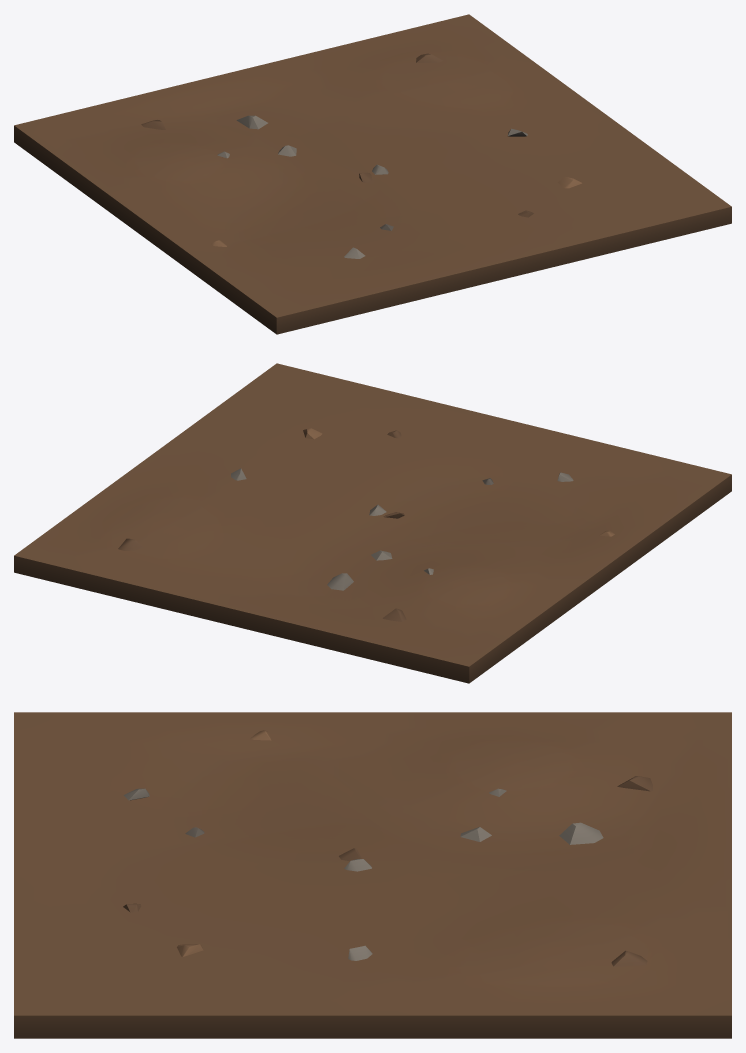
The model's file is floor_earth_large_E.glb.
3 views of the same model, one above another, from view 1: azimuth 30°, elevation 25°; view 2: azimuth 150°, elevation 25°; view 3: azimuth 270°, elevation 25° (orthographic). The views are drawn at different scales.
Parts seen in each view (by area): view 1: Item; view 2: Item; view 3: Item.
Boxes of the visible parts, x1,y1,x2,y2 form: Item: (14, 14, 731, 334); Item: (14, 363, 731, 683); Item: (14, 712, 731, 1038).
Bounding box in the file's own units: 4 × 0.202 × 4.
1 material, 1 textured.
